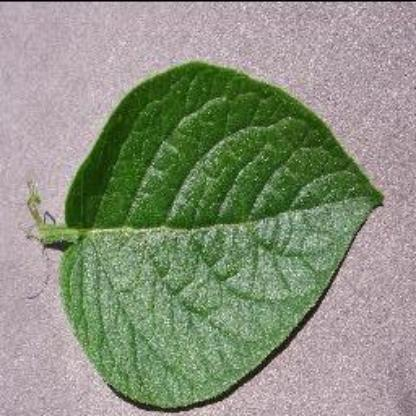Healthy-plant: (35, 34, 395, 408)
